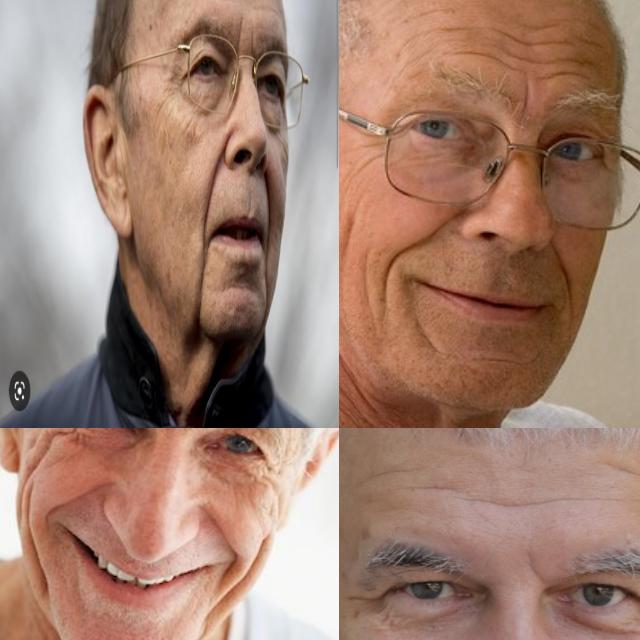chin: (478, 346, 518, 368)
crows_feet: (353, 130, 383, 180), (251, 462, 285, 501), (340, 584, 392, 608), (29, 428, 70, 449), (168, 62, 185, 94)
forehead: (473, 488, 561, 526), (550, 30, 596, 84), (427, 11, 475, 43), (500, 49, 546, 82), (490, 20, 534, 52), (416, 476, 460, 506), (364, 460, 414, 484), (446, 40, 492, 66), (605, 456, 640, 482)
frown_line: (521, 548, 549, 588), (512, 77, 534, 123), (234, 19, 244, 51), (248, 27, 255, 57)
gummy_smile: (544, 246, 580, 300), (384, 230, 430, 268), (203, 509, 241, 555), (50, 482, 109, 508), (203, 150, 220, 223), (369, 270, 396, 312), (262, 181, 273, 236)
masseter: (18, 481, 50, 584), (240, 534, 268, 594), (339, 204, 361, 261)
sad_smile: (216, 556, 238, 598), (196, 258, 210, 303), (260, 268, 271, 314)
